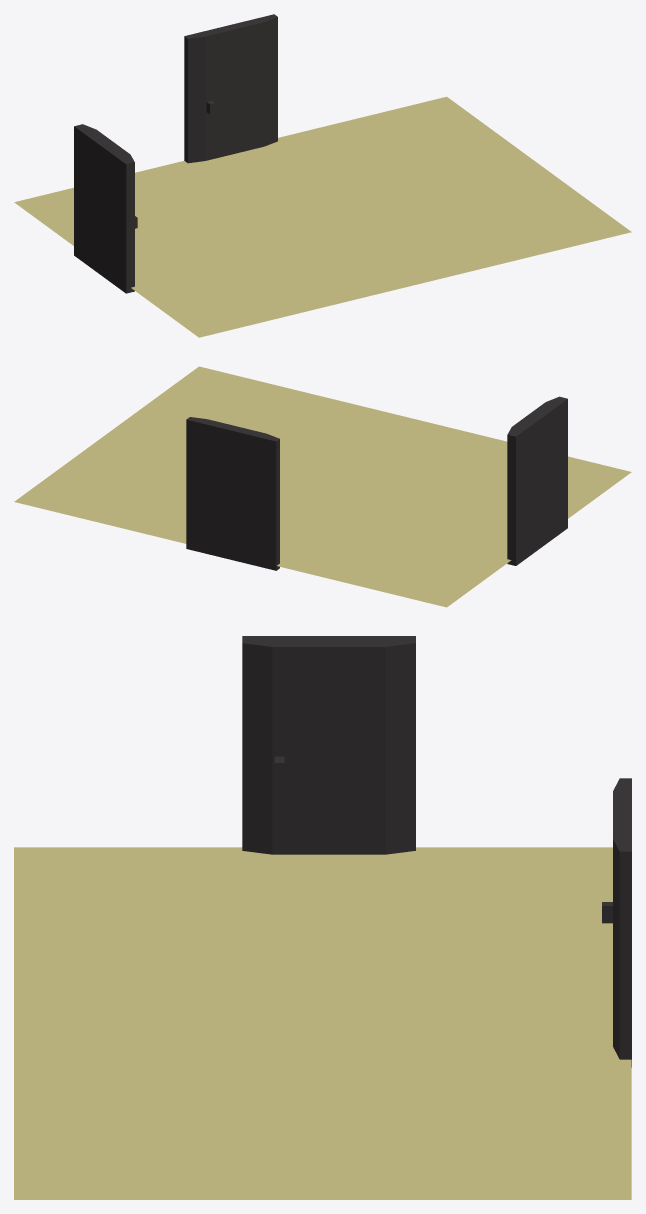
The model's file is ByakkoStage4.13.fbx.
3 views of the same model, one above another, from view 1: azimuth 30°, elevation 25°; view 2: azimuth 150°, elevation 25°; view 3: azimuth 270°, elevation 25° (orthographic). The views are drawn at different scales.
Visible parts, largest first — view 1: Plane.044, Plane.045; view 2: Plane.044, Plane.045; view 3: Plane.044, Plane.045.
Boxes of the visible parts, box(x1,y1,x2,y2) form: Plane.044: box(14, 96, 631, 337); Plane.045: box(74, 14, 277, 293); Plane.044: box(14, 366, 631, 607); Plane.045: box(186, 396, 567, 570); Plane.044: box(14, 847, 631, 1199); Plane.045: box(242, 636, 631, 1067).
Bounding box in the file's own units: 34.66 × 9.8 × 25.42.
